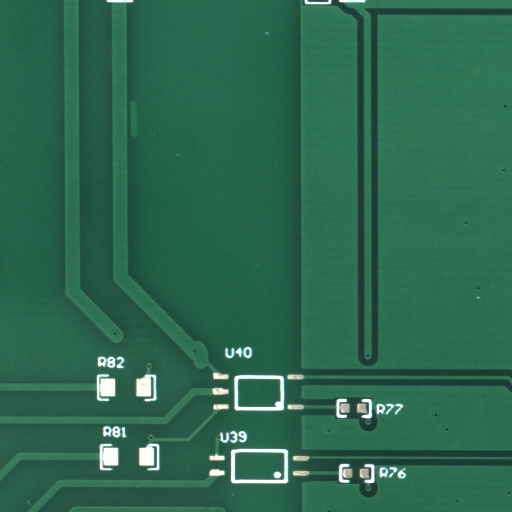Spurious_copper: (133, 118, 142, 157)
